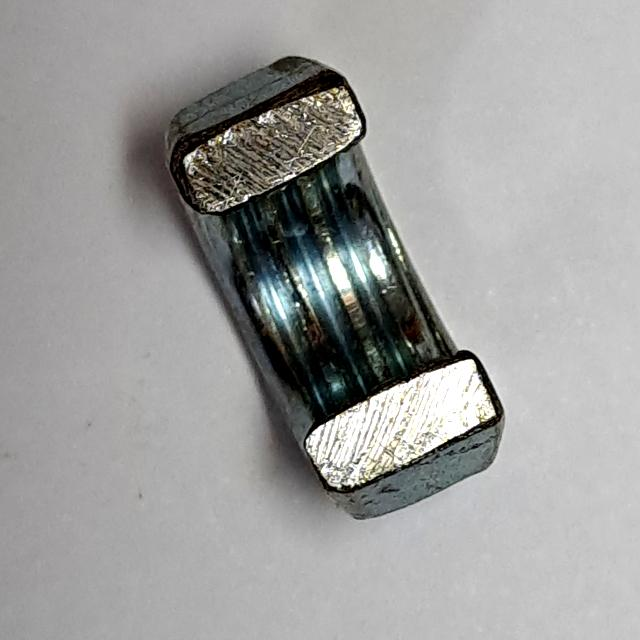Side-Fracture: (148, 38, 524, 540)
